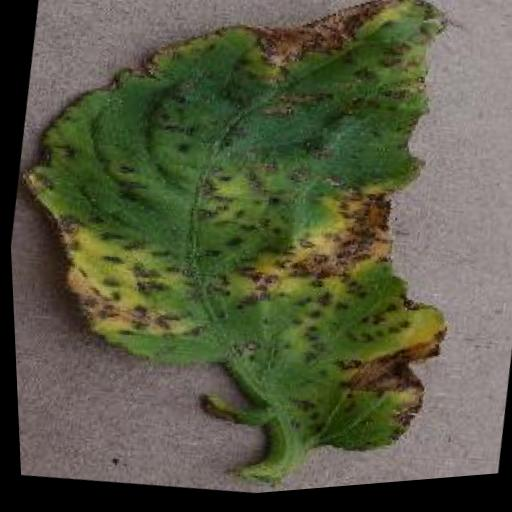Bacterial Spot: (0, 0, 499, 494)
